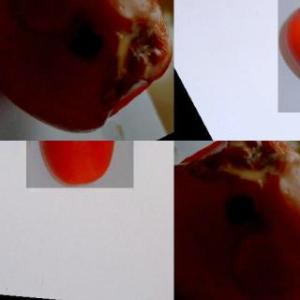tomato: (26, 141, 134, 187)
